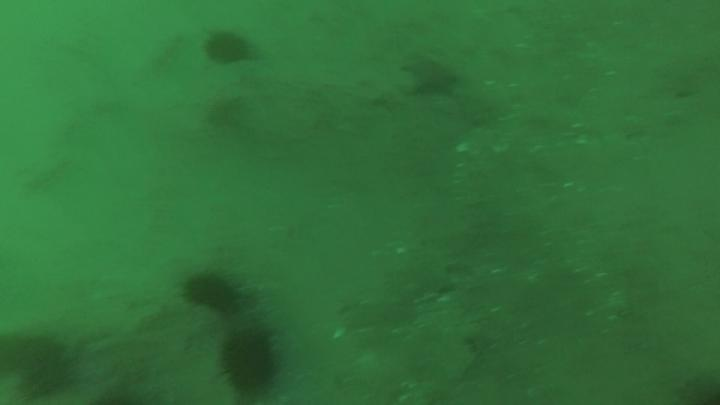echinus: (213, 317, 292, 398), (180, 272, 258, 326), (204, 28, 253, 69)
starfish: (402, 53, 462, 105)
